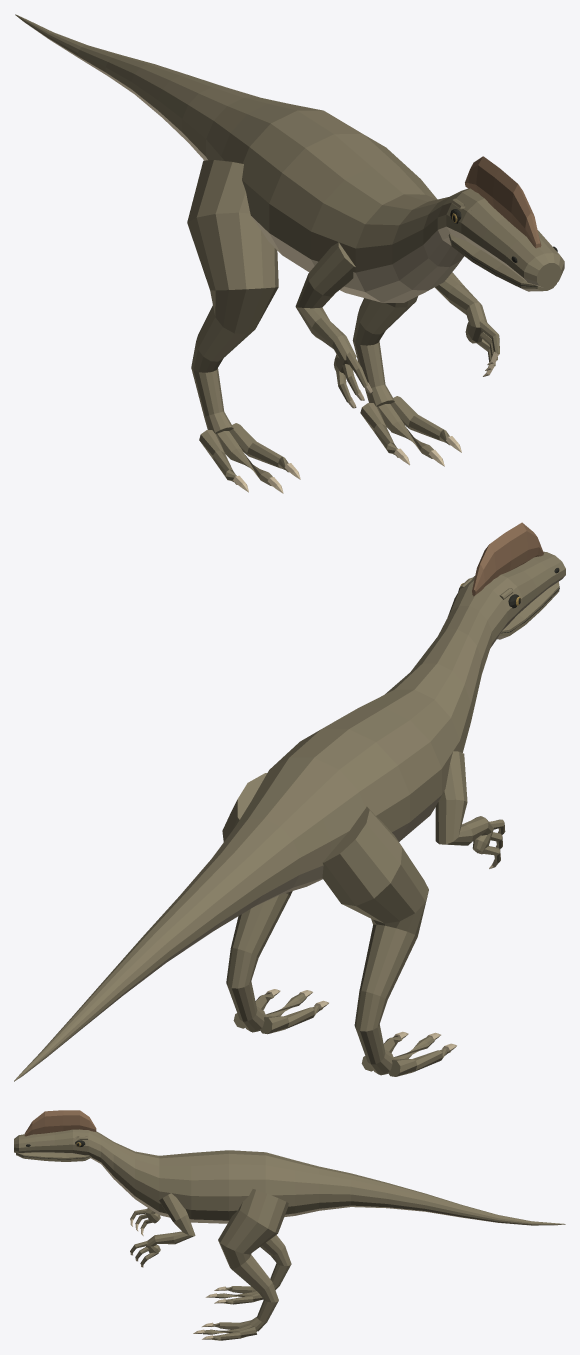
The picture shows the model from 3 angles, top to bottom: view 1: azimuth 30°, elevation 25°; view 2: azimuth 150°, elevation 25°; view 3: azimuth 270°, elevation 25°; orthographic projection. The views are drawn at different scales.
Visible parts, largest first — view 1: anatomical-surface; view 2: anatomical-surface; view 3: anatomical-surface.
Part boxes in pixels (box(x1,y1,x2,y2)): anatomical-surface: box(15, 14, 564, 493); anatomical-surface: box(14, 522, 565, 1081); anatomical-surface: box(14, 1110, 565, 1340).
Size of the model in its own units: 1.24 by 2.35 by 5.7.
